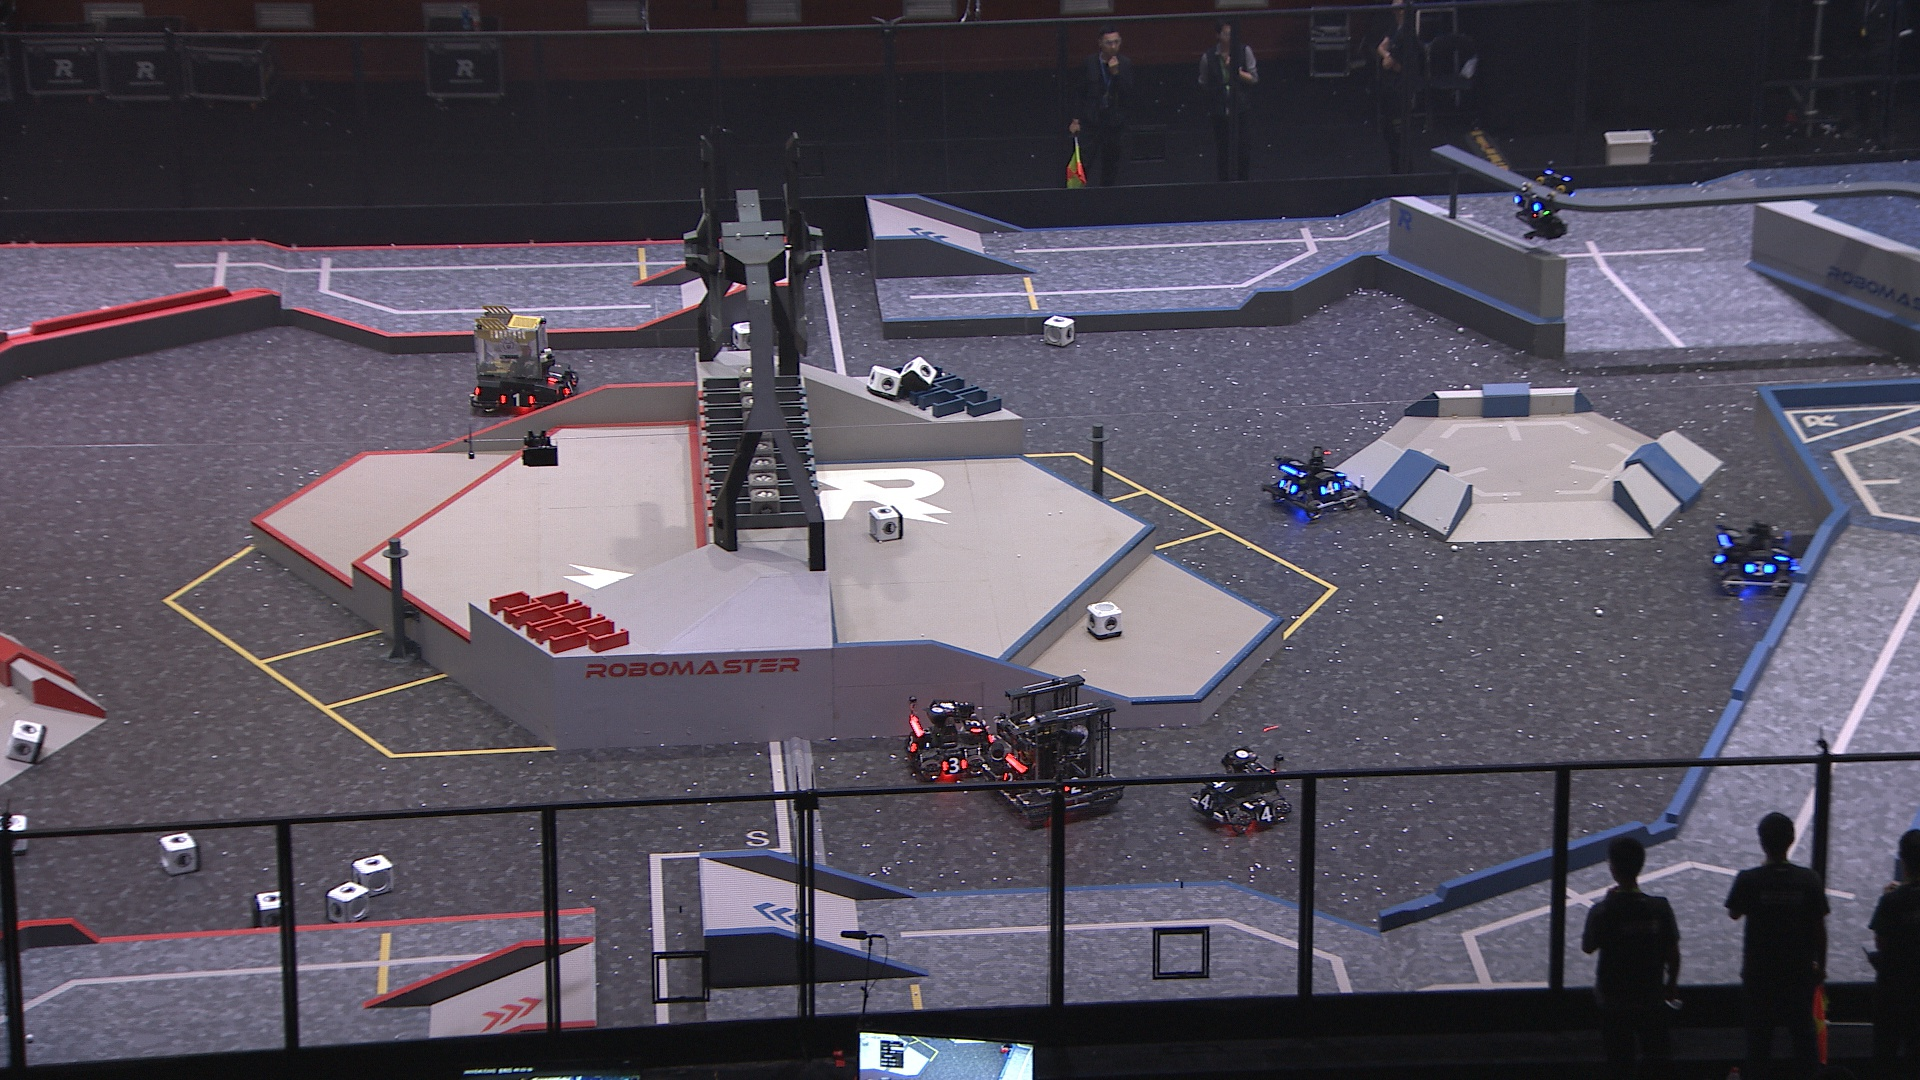armor: (498, 390, 538, 410), (938, 754, 969, 777), (1742, 556, 1775, 578), (1513, 191, 1542, 214), (1770, 541, 1792, 566), (1253, 803, 1276, 825), (558, 376, 579, 400), (1063, 775, 1087, 796), (1276, 477, 1299, 498), (903, 732, 922, 757), (963, 713, 984, 735), (1000, 771, 1019, 794), (1196, 793, 1218, 812), (1209, 775, 1234, 793), (1317, 477, 1340, 496), (1323, 463, 1348, 479), (545, 363, 564, 382), (1709, 549, 1727, 566)
car: (982, 670, 1130, 822), (462, 302, 588, 417), (897, 692, 1005, 781), (1189, 745, 1292, 836), (1258, 443, 1367, 526), (1702, 516, 1808, 597)
watcher: (1509, 157, 1580, 243)
